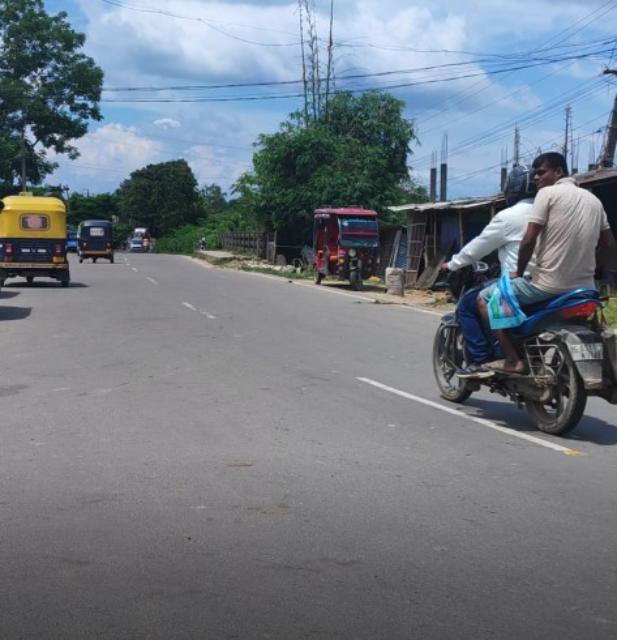licensePlate: (563, 343, 606, 362)
motorcycle: (432, 149, 617, 430)
withHelmet: (502, 161, 543, 200)
withoutHelmet: (533, 152, 571, 191)
